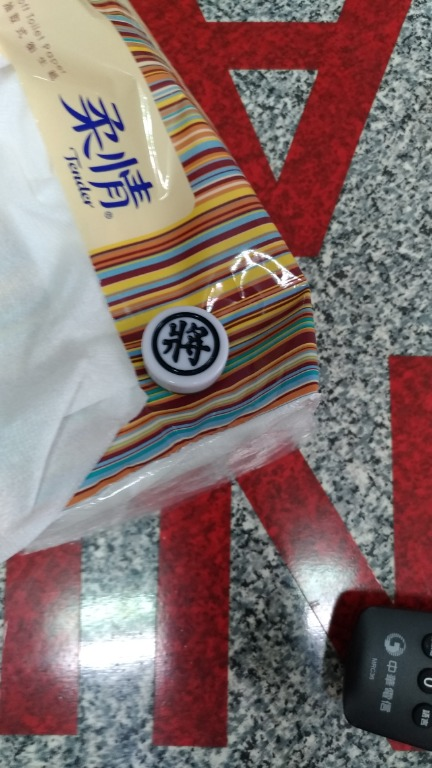b-king: (131, 301, 243, 404)
